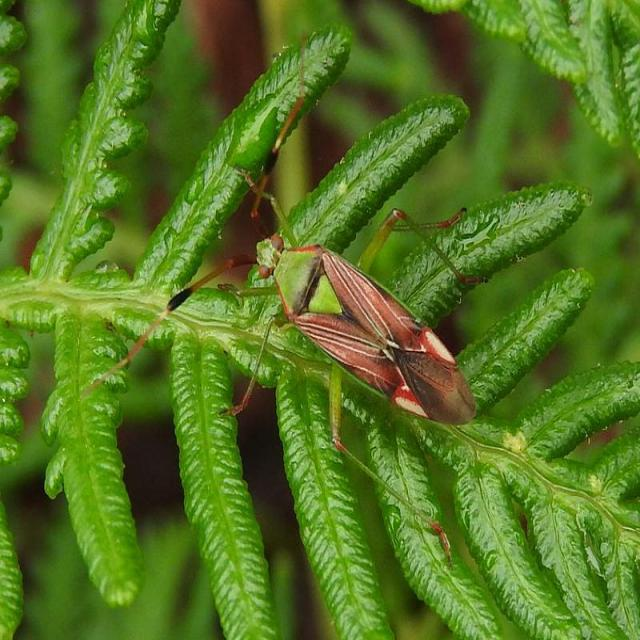Miridae-Adult-: (144, 55, 488, 531)
